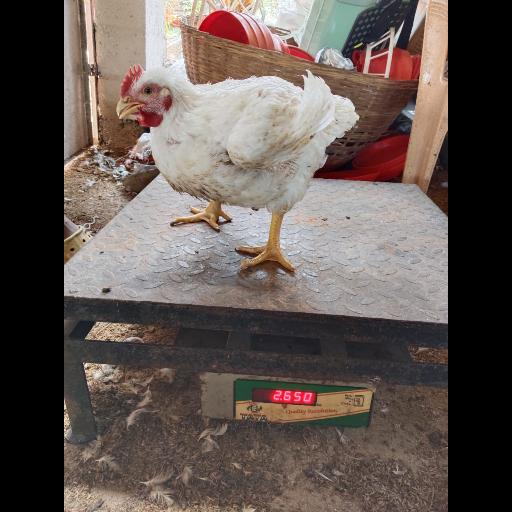chick: (115, 66, 361, 273)
